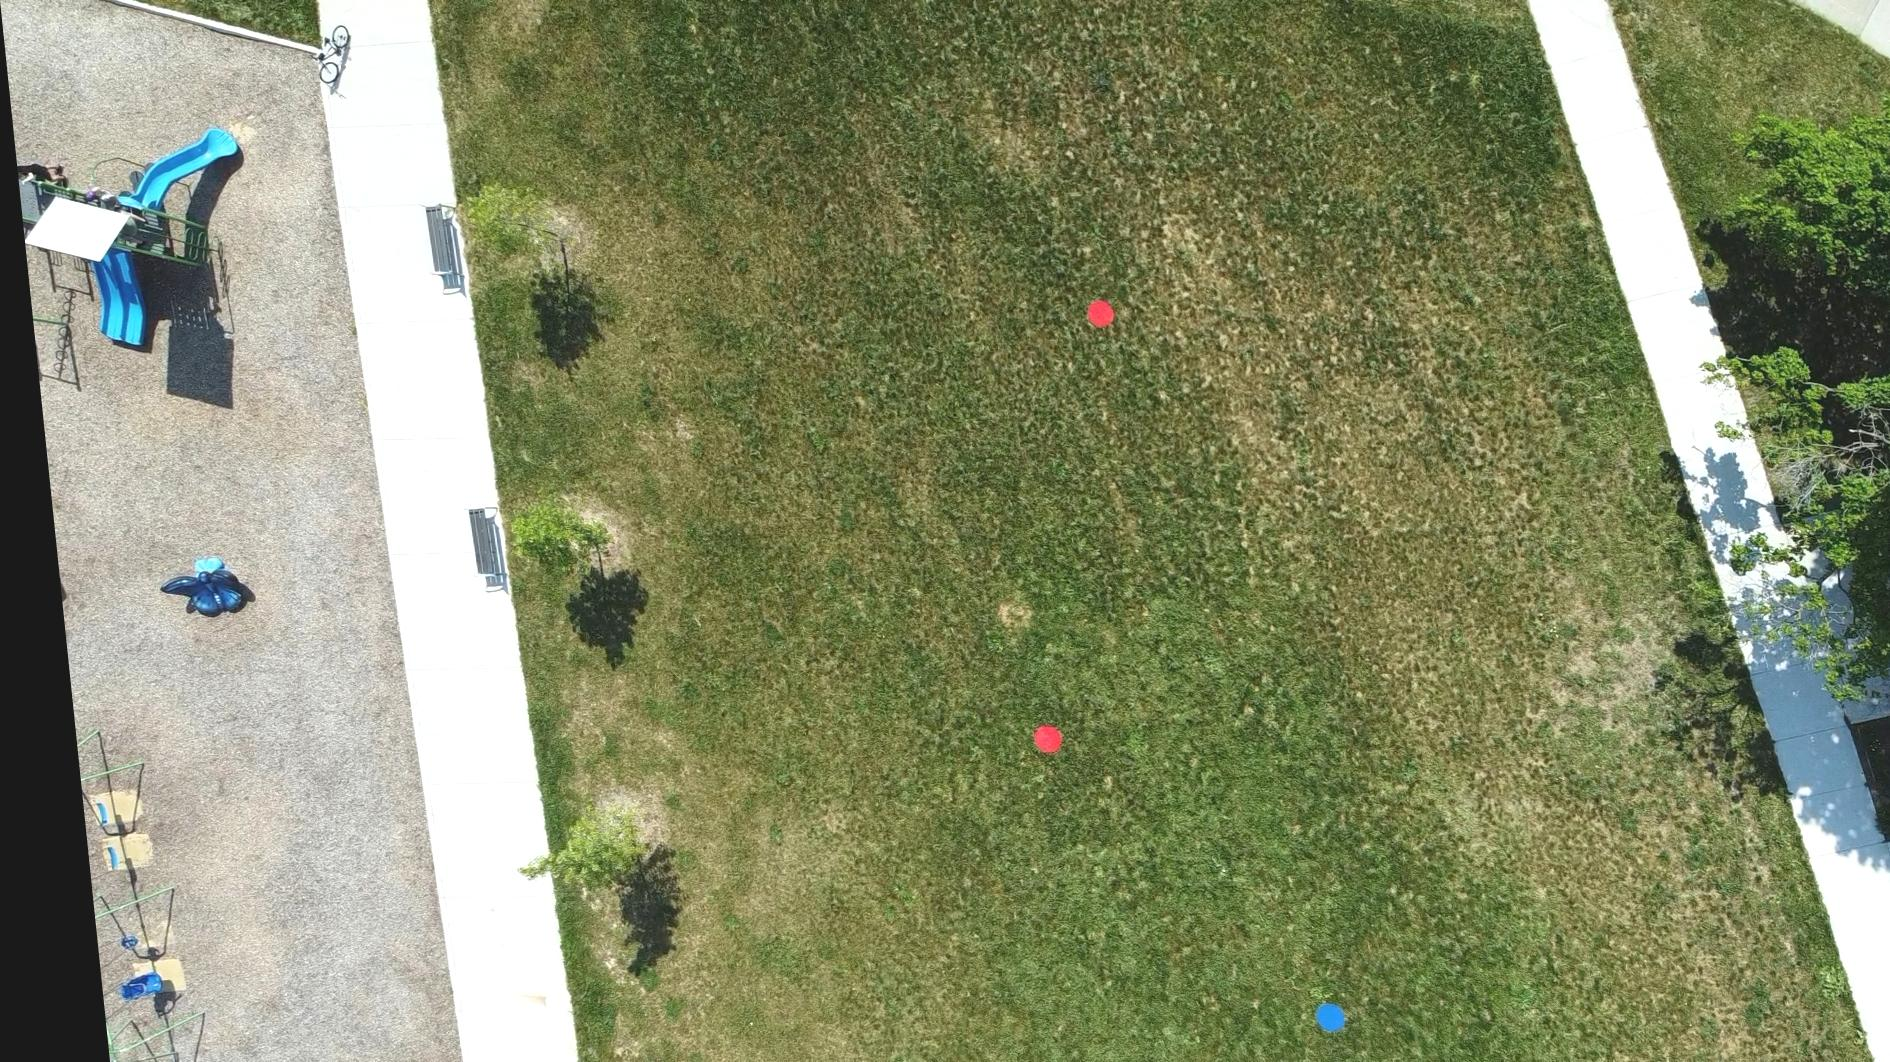Blue: (1292, 1002, 1327, 1032)
Red: (1016, 724, 1050, 754), (1079, 301, 1110, 328)
